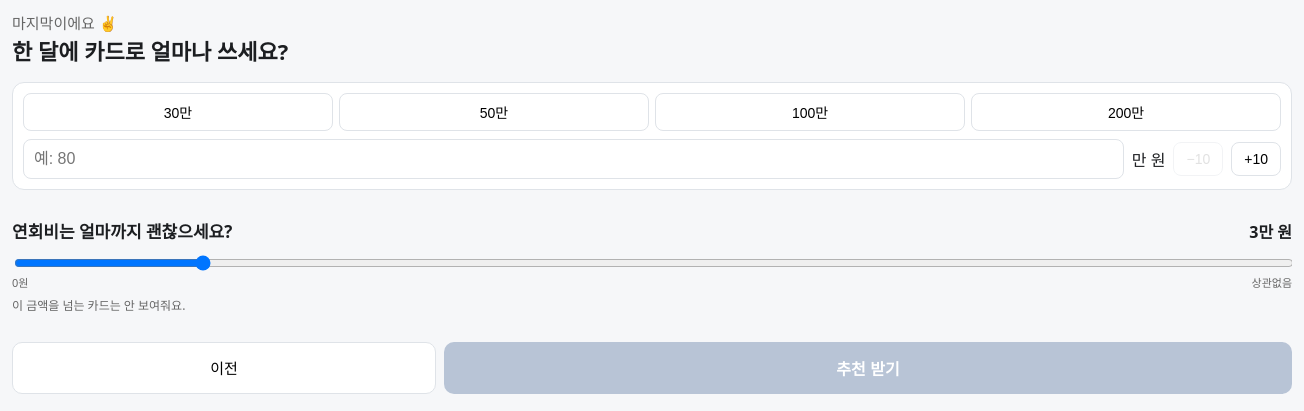
Scenario: 사용액 빠른 선택 버튼을 누르면 입력칸에 들어간다
Click the button "50만" at {"x": 494, "y": 112}, box x1=339 y1=93 x2=649 y2=131
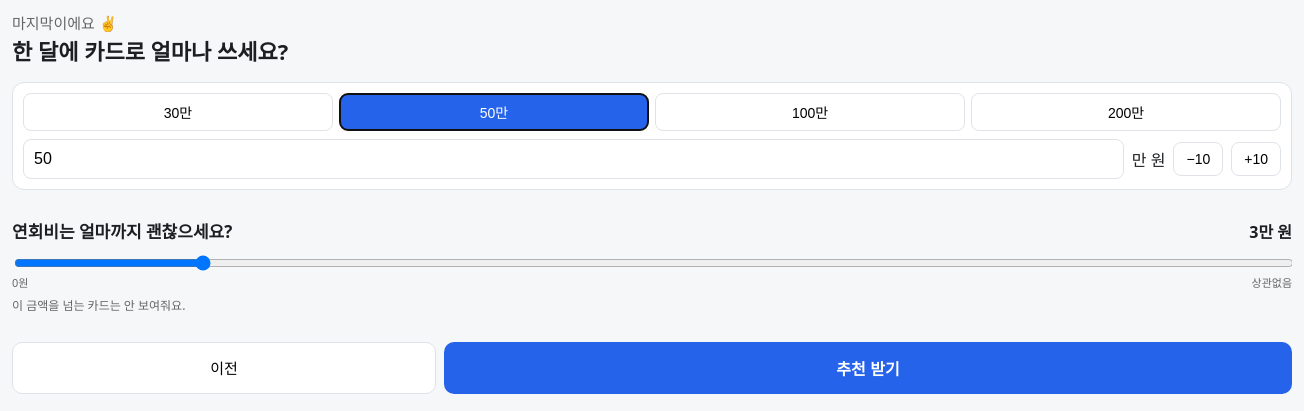
Result: the number field named "한 달에 카드로 얼마나" holds "50" at x1=23 y1=139 x2=1124 y2=179
Click the button "200만" at {"x": 1126, "y": 112}, box x1=971 y1=93 x2=1281 y2=131
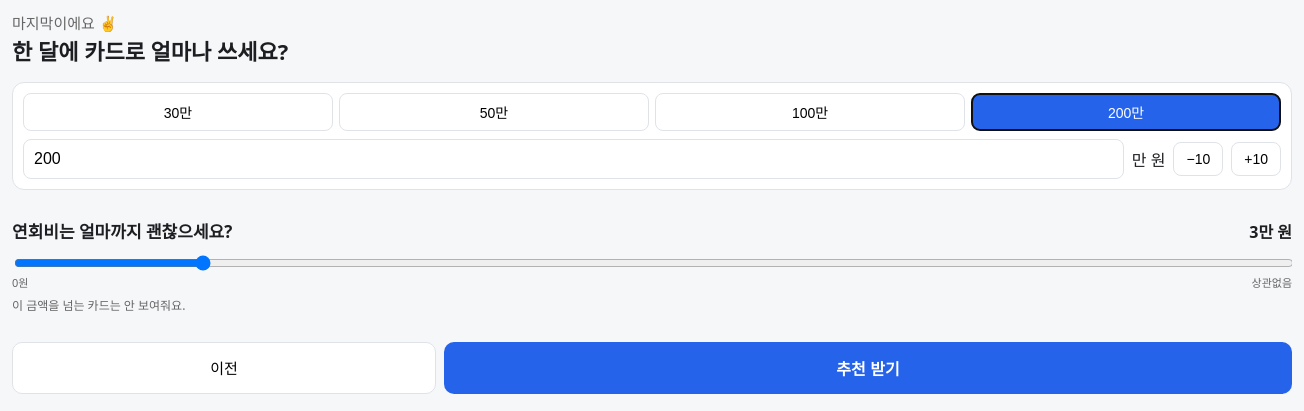
Result: the number field named "한 달에 카드로 얼마나" holds "200" at x1=23 y1=139 x2=1124 y2=179
